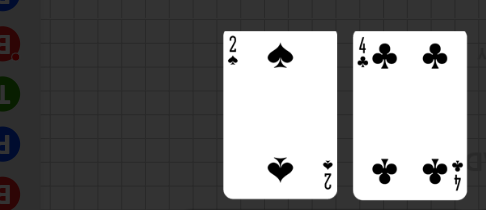2S: (226, 34, 240, 68)
4C: (449, 157, 464, 191)
